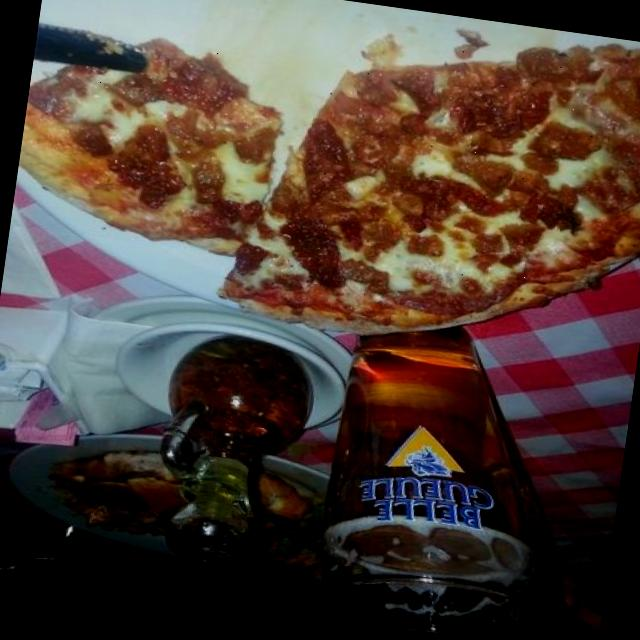pizza: (223, 47, 640, 331), (21, 41, 281, 256)
